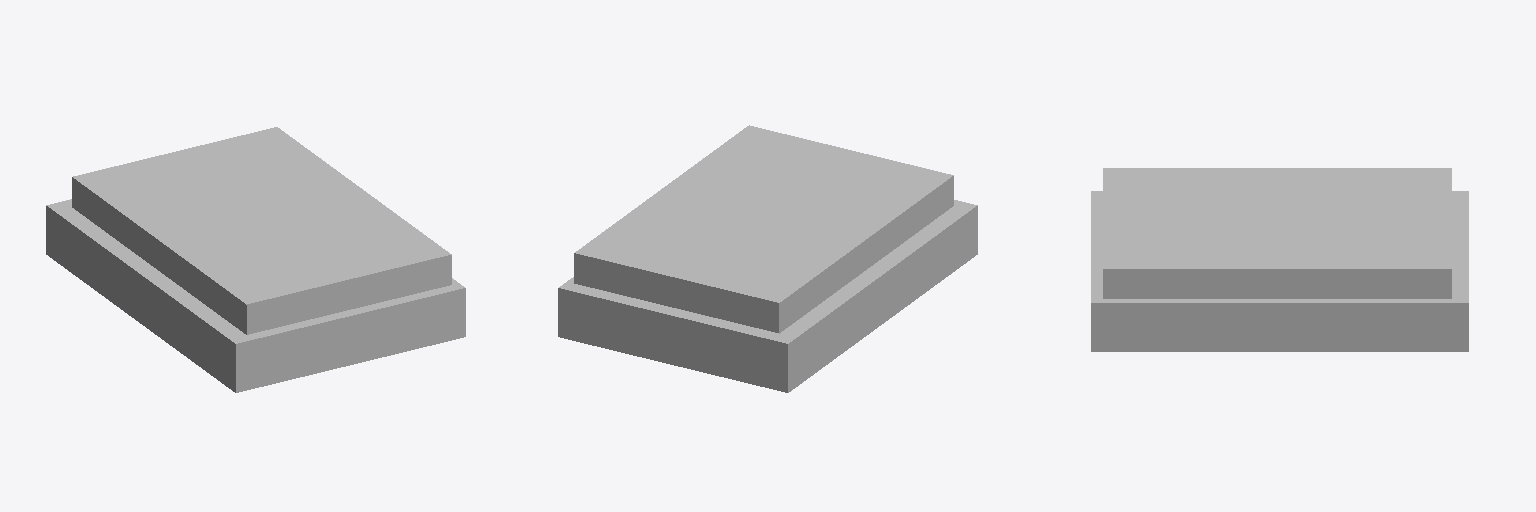
Rendered from tahta.obj.
3 views of the same model, side by side, from view 1: azimuth 30°, elevation 25°; view 2: azimuth 150°, elevation 25°; view 3: azimuth 270°, elevation 25° (orthographic).
Visible parts, largest first — view 1: Box005; view 2: Box005; view 3: Box005.
Boxes of the visible parts, x1,y1,x2,y2 form: Box005: [46, 127, 465, 392]; Box005: [558, 125, 977, 392]; Box005: [1091, 168, 1468, 351].
Bounding box in the file's own units: 10.51 × 3.48 × 15.